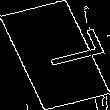L_W: (16, 32, 94, 78)
